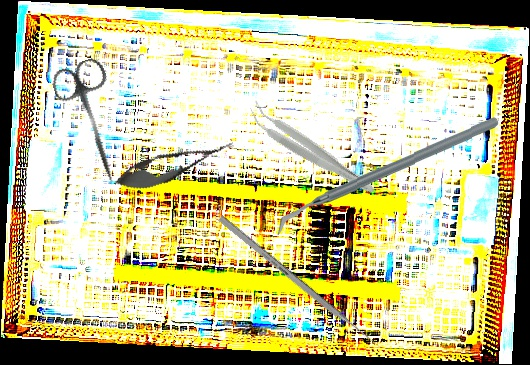Chopper: (271, 117, 501, 235)
Iris Scissors: (48, 55, 140, 191)
Micro Scissor: (110, 129, 238, 200)
Pusher: (217, 215, 383, 351)
Tissue Forceps: (242, 99, 382, 200)
